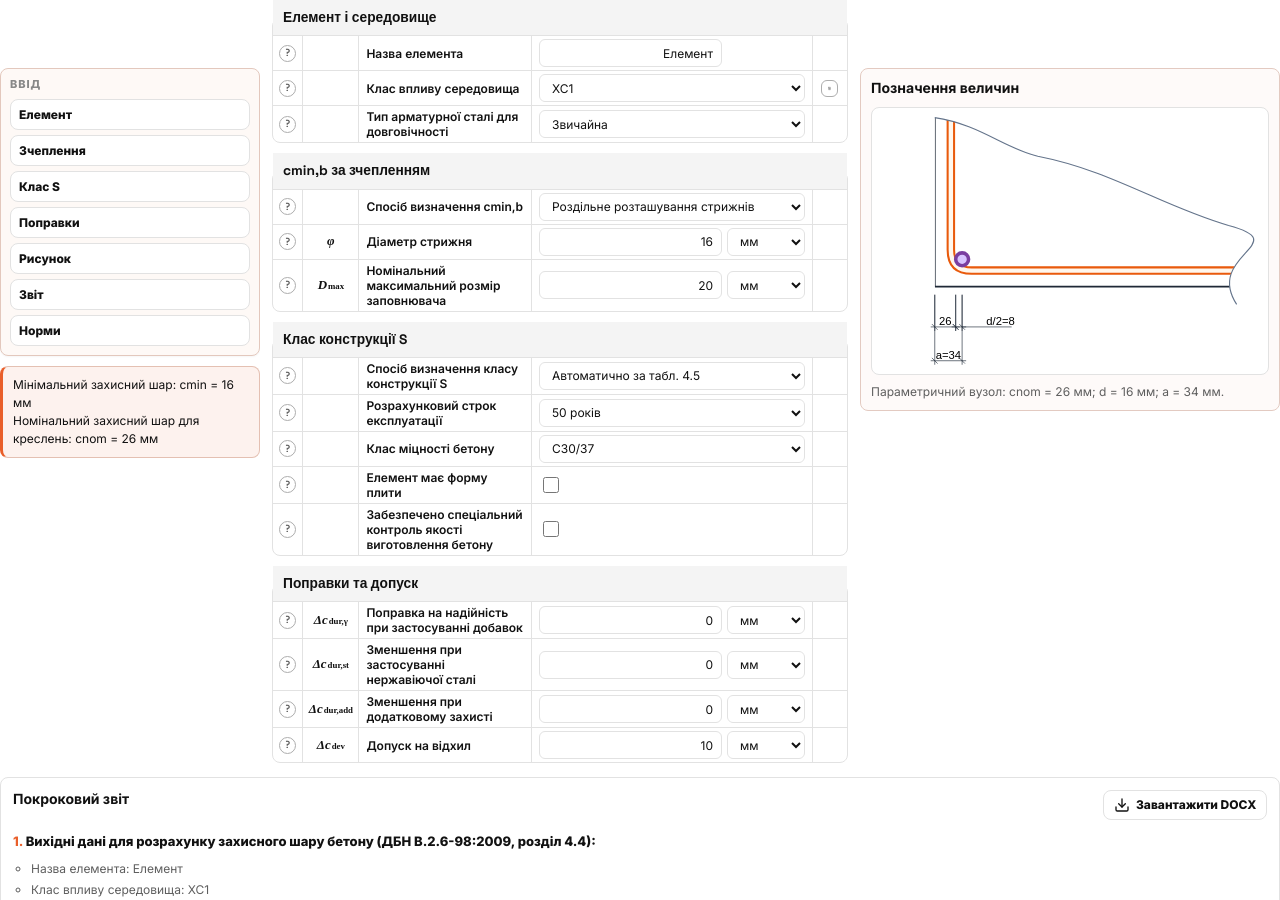
Test case: ConcreteCoverDurabilityCalculator › rejects malformed numeric text without keeping calculated output
Replace the text in the field labelled "Діаметр стрижня" with "10abc" at {"x": 630, "y": 242}, box [539,228,722,256]
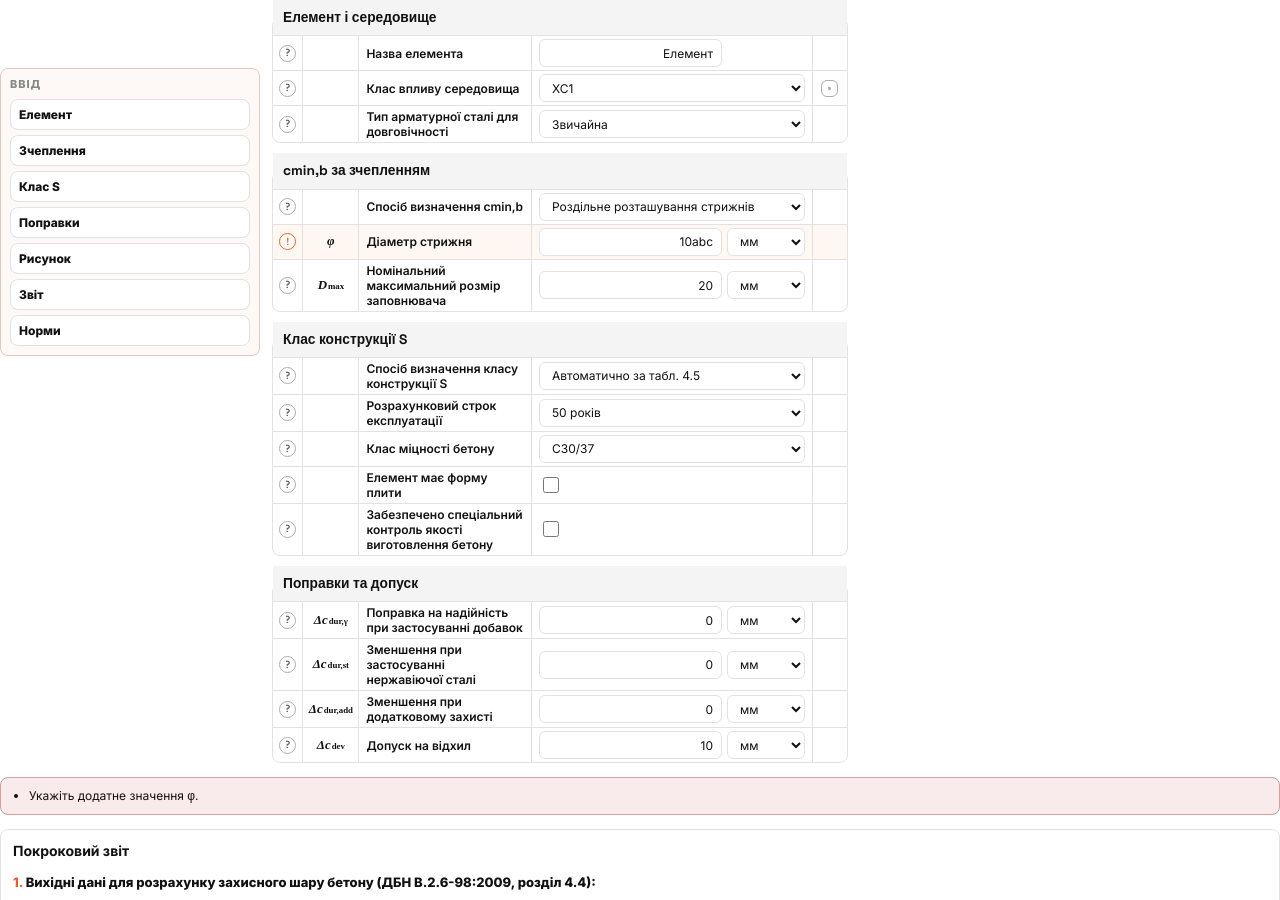
Now the button named "Показати помилку поля Діаметр стрижня" is shown, box [279,233,296,250]
Now the text "Мінімальний захисний шар: cmin" is gone
Now the button "Завантажити DOCX" is gone
